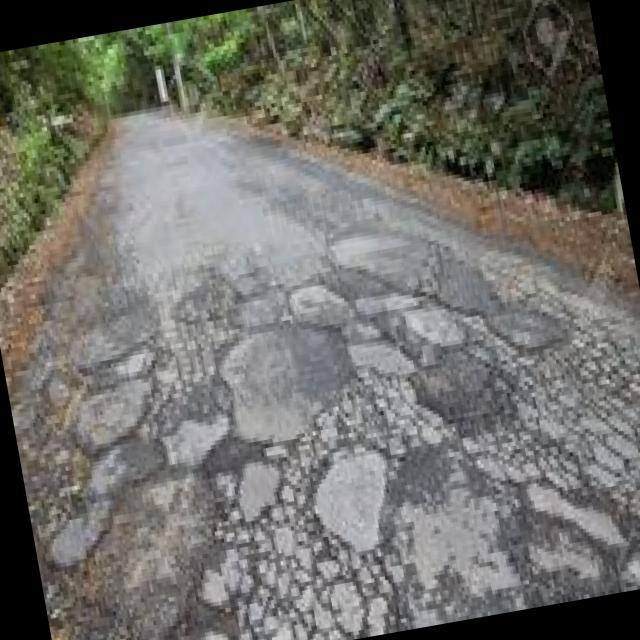Potholes: (41, 452, 269, 640), (469, 452, 640, 614), (386, 326, 538, 467)
